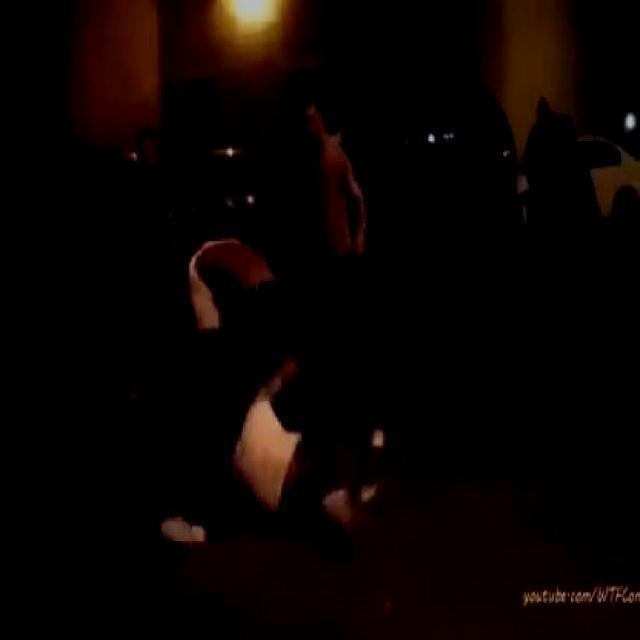fight: (148, 230, 384, 550)
